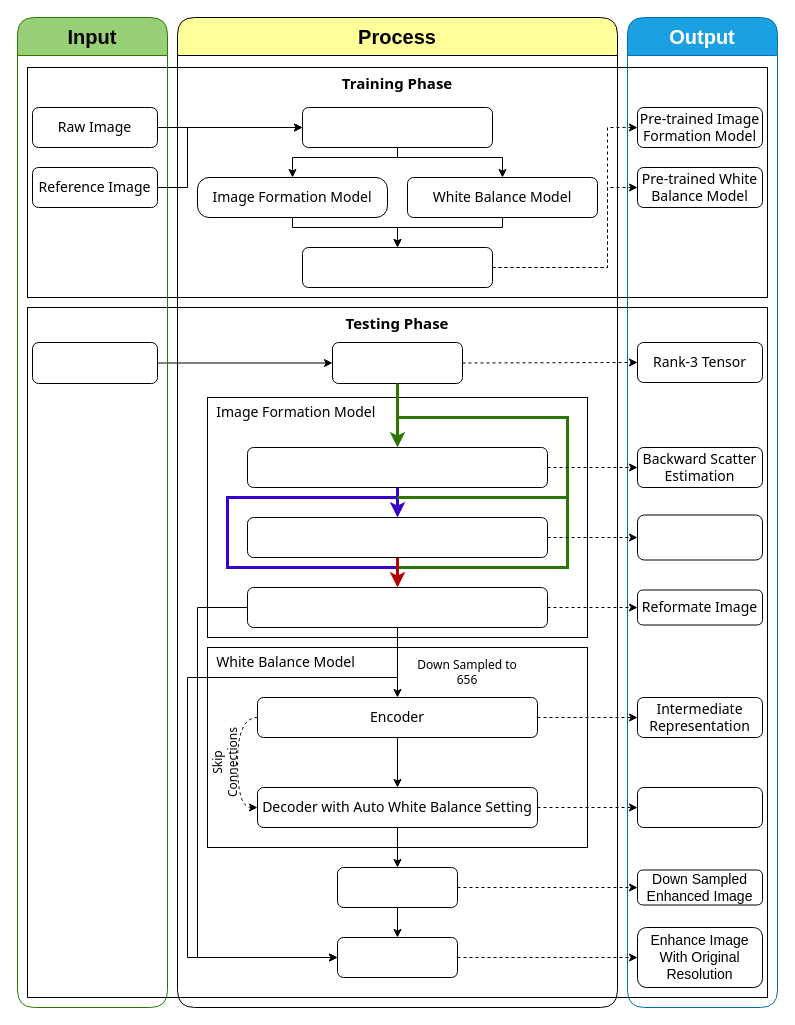
The diagram is 795 pixels wide and 1025 high, and some of its shapes have lost their labels. Here are the shapes that lost their labels. From the top down, the centre of each, then its label:
the point at 397,127: Dataset Preparation
the point at 397,267: Initialize Training Procedure
the point at 95,363: Test Image
the point at 397,363: Tensor Conversion
the point at 397,467: Backward Scatter Estimation Module
the point at 397,537: Direct-Transmission Estimation Module
the point at 699,537: Direct-transmission Estimation
the point at 397,607: Reformation Calculation
the point at 699,807: White Balance Image
the point at 397,887: Image Conversion
the point at 397,957: Color Mapping
